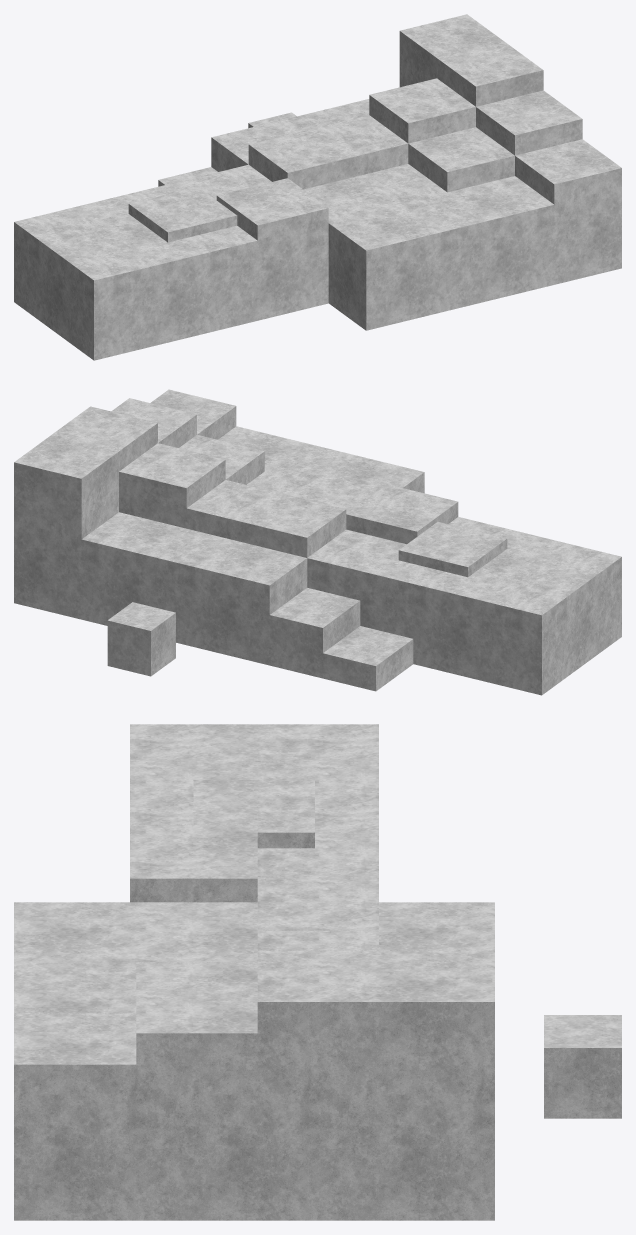
Rendered from table_metal_9-opt-v7.glb.
3 renders of one model, top to bottom at view 1: azimuth 30°, elevation 25°; view 2: azimuth 150°, elevation 25°; view 3: azimuth 270°, elevation 25°, orthographic. The views are drawn at different scales.
Parts seen in each view (by area): view 1: Mesh_15.014; view 2: Mesh_15.014; view 3: Mesh_15.014.
Boxes of the visible parts, x1,y1,x2,y2 form: Mesh_15.014: (14, 14, 621, 360); Mesh_15.014: (14, 389, 621, 695); Mesh_15.014: (14, 724, 621, 1220).
Bounding box in the file's own units: 5.08 × 1.39 × 3.51.
Materials: 1 (1 with a texture image).
